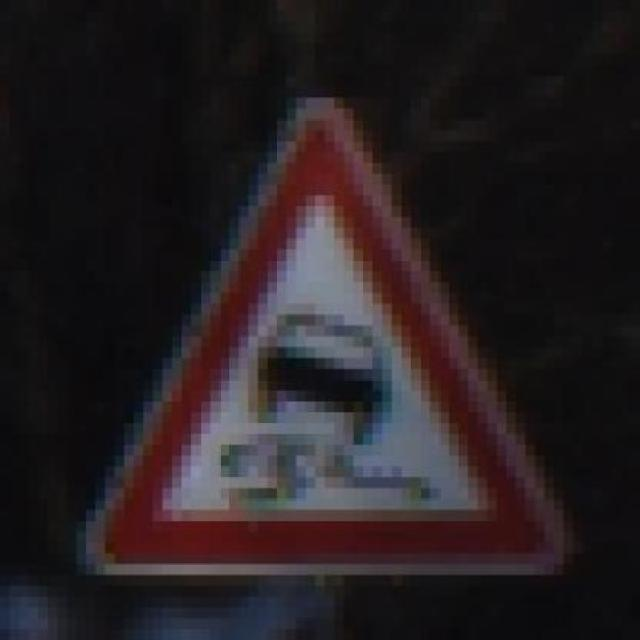Slippery Road Ahead: (67, 75, 573, 576)
